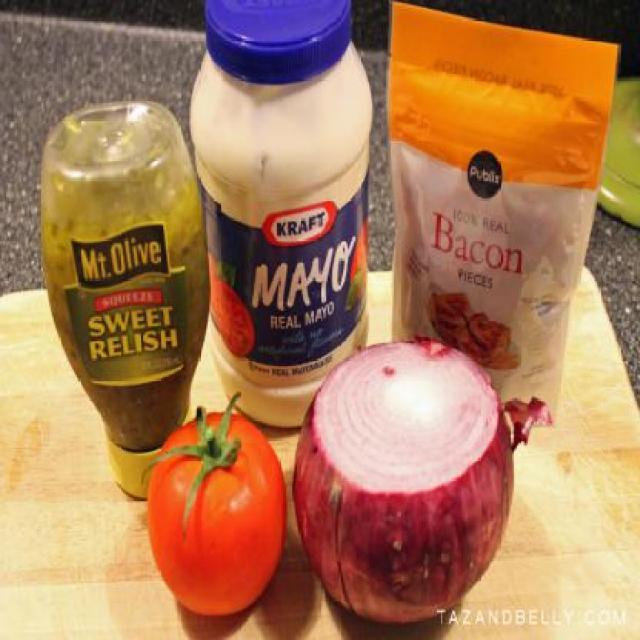Tomato: (140, 384, 288, 613)
